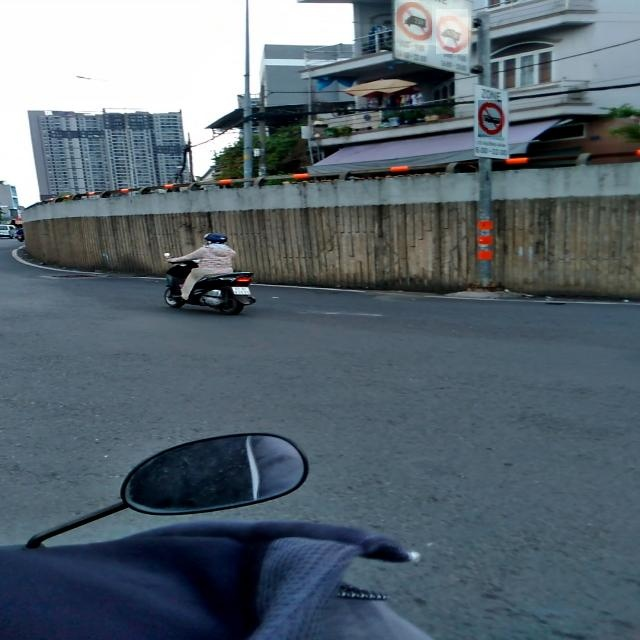bien_cam: (436, 9, 468, 54), (397, 2, 432, 43), (478, 100, 502, 137)
